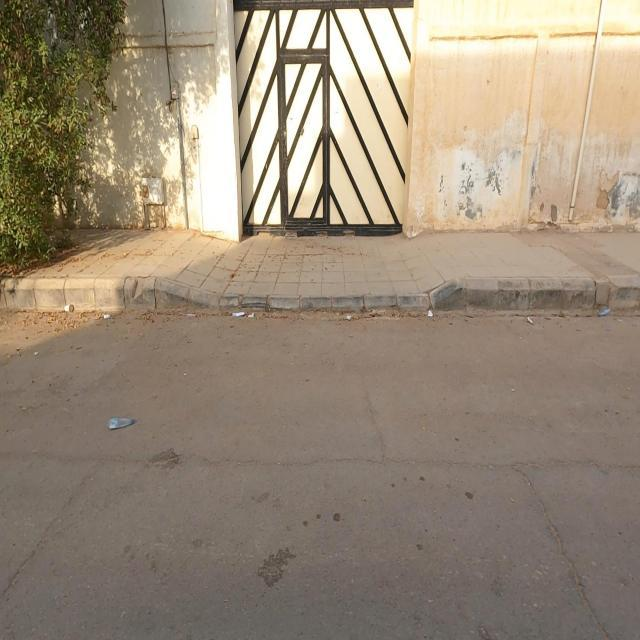debris: (202, 270, 292, 358), (76, 280, 140, 356), (502, 288, 566, 359), (82, 393, 156, 454), (579, 282, 627, 346), (328, 288, 372, 348), (411, 283, 447, 343), (48, 289, 88, 334)
